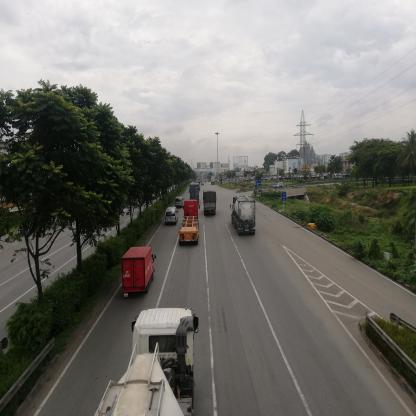car: (165, 209, 180, 225), (178, 198, 185, 206)
container: (106, 309, 194, 416), (181, 202, 200, 244), (191, 182, 199, 200)
truck: (122, 247, 157, 295), (232, 196, 257, 234), (205, 190, 218, 215), (274, 182, 285, 190)
